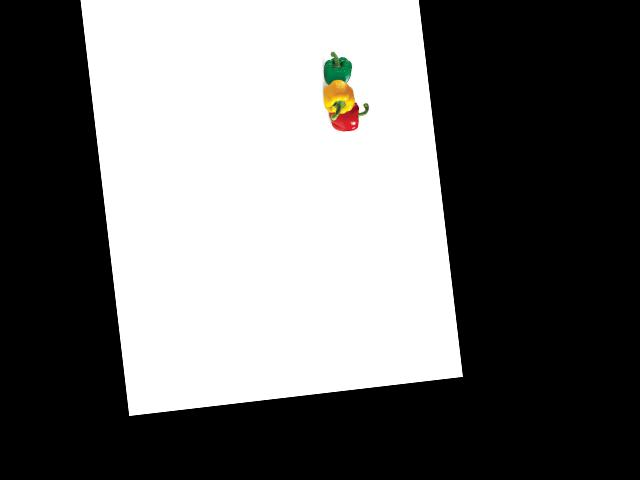bell_pepper: (318, 50, 356, 89)
